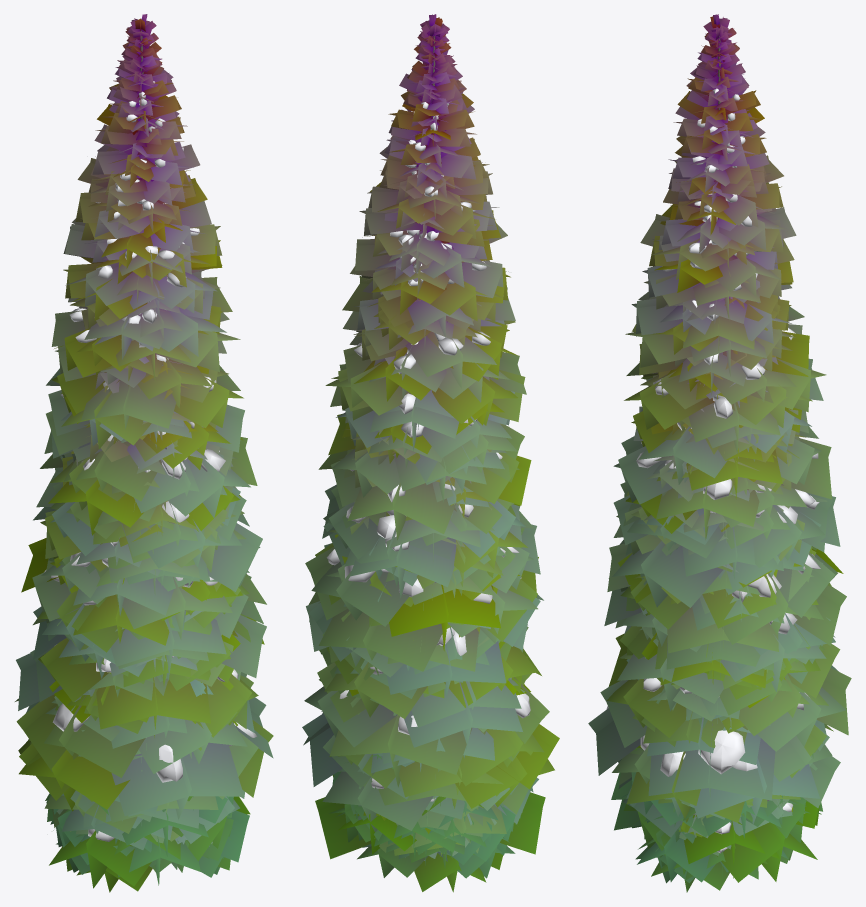
Rendered from trees.glb.
The picture shows the model from 3 angles, left to right: view 1: azimuth 30°, elevation 25°; view 2: azimuth 150°, elevation 25°; view 3: azimuth 270°, elevation 25°; orthographic projection.
Parts seen in each view (by area): view 1: spruce_d, spruce_a, xmas_tree, spruce_b; view 2: spruce_d, spruce_a, xmas_tree, spruce_b; view 3: spruce_d, spruce_a, xmas_tree, spruce_b.
Boxes of the visible parts, box(x1,y1,x2,y2) form: spruce_d: box(21, 14, 263, 715); spruce_a: box(15, 310, 273, 849); xmas_tree: box(45, 793, 250, 892); spruce_b: box(30, 617, 240, 844); spruce_d: box(305, 14, 540, 704); spruce_a: box(302, 298, 559, 848); xmas_tree: box(315, 754, 545, 892); spruce_b: box(338, 625, 532, 856); spruce_d: box(612, 14, 846, 728); spruce_a: box(588, 296, 851, 837); xmas_tree: box(611, 747, 822, 892); spruce_b: box(619, 626, 833, 855).
Bounding box in the file's own units: 5.59 × 19.96 × 5.61.
